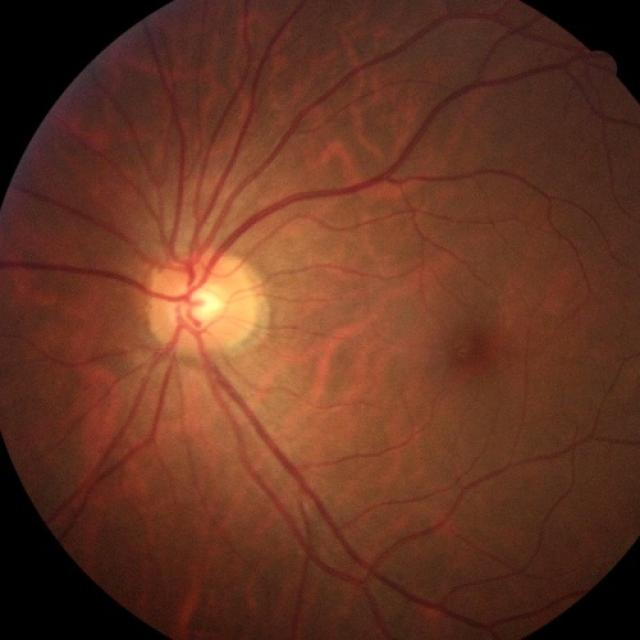OC: (188, 290, 223, 320)
OD: (149, 254, 254, 351)
